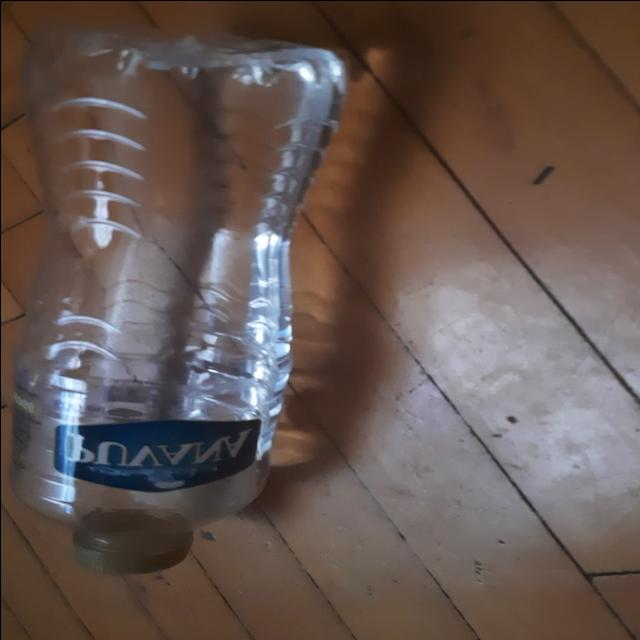Plastic: (9, 0, 352, 574)
